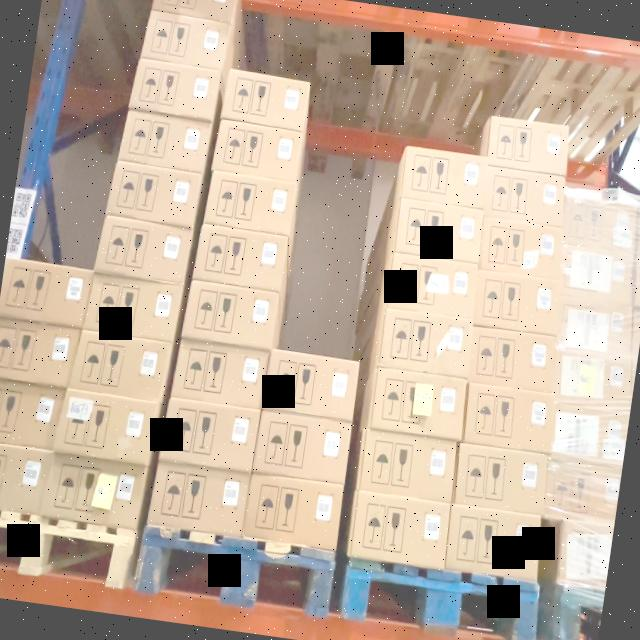box: (346, 490, 450, 570), (54, 389, 160, 465), (242, 473, 344, 551), (445, 502, 544, 582), (37, 457, 147, 529), (355, 427, 458, 503), (147, 462, 251, 536), (366, 369, 468, 444), (158, 398, 261, 472), (252, 410, 352, 485), (70, 330, 172, 401), (262, 349, 361, 422), (84, 272, 184, 342), (170, 340, 270, 410), (454, 443, 547, 516), (182, 283, 280, 352), (377, 308, 473, 378), (95, 216, 192, 285), (462, 383, 555, 454), (192, 226, 289, 294), (385, 254, 478, 322), (392, 197, 483, 265), (465, 328, 555, 395), (203, 173, 297, 237), (119, 109, 213, 173), (108, 164, 202, 228), (212, 121, 305, 184), (219, 70, 310, 133), (127, 58, 222, 118), (478, 213, 565, 278), (543, 458, 622, 529), (400, 146, 487, 210), (472, 270, 560, 333), (140, 10, 231, 69), (551, 344, 634, 408), (485, 116, 571, 177), (551, 403, 630, 469), (481, 164, 565, 225), (554, 289, 634, 352), (557, 243, 635, 303), (562, 195, 638, 255)
